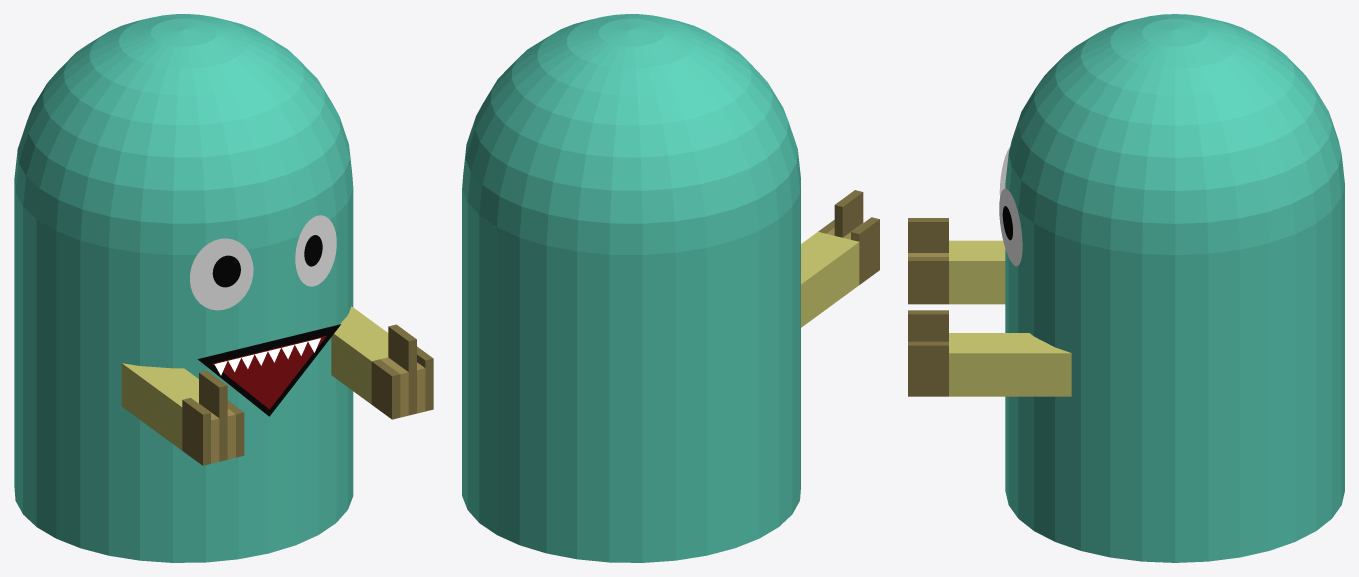
Rendered from NewEnemy2.fbx.
The picture shows the model from 3 angles, left to right: view 1: azimuth 30°, elevation 25°; view 2: azimuth 150°, elevation 25°; view 3: azimuth 270°, elevation 25°; orthographic projection.
Visible parts, largest first — view 1: Sphere, Cube, Plane.003, Circle.001, Circle.000; view 2: Sphere, Cube; view 3: Sphere, Cube, Circle.000.
Boxes of the visible parts, x1,y1,x2,y2 form: Sphere: [14, 14, 353, 562]; Cube: [121, 306, 433, 465]; Plane.003: [197, 324, 341, 416]; Circle.001: [190, 238, 253, 310]; Circle.000: [295, 215, 336, 286]; Sphere: [462, 14, 800, 562]; Cube: [801, 190, 879, 327]; Sphere: [1005, 14, 1344, 562]; Cube: [908, 218, 1071, 396]; Circle.000: [999, 188, 1022, 266].
Bounding box in the file's own units: 200 × 300 × 257.
